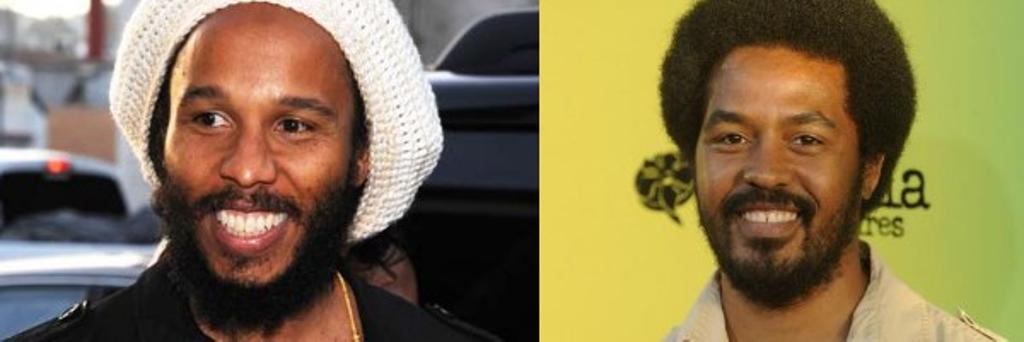face: (164, 8, 356, 302), (696, 42, 862, 302)
